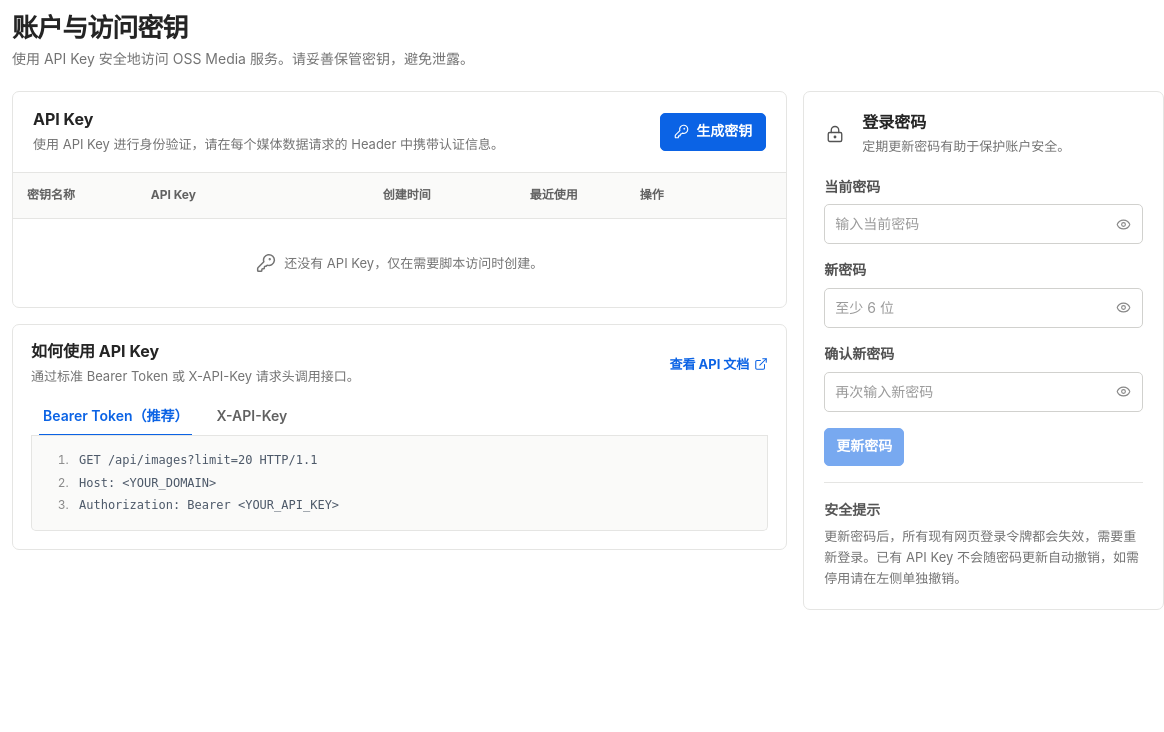
Test: AccountView › keeps failed password changes signed in and exposes accessible visibility controls
Click the button named "显示当前密码" at (1123,224), box top-left (1104, 205), bottom-right (1142, 243)
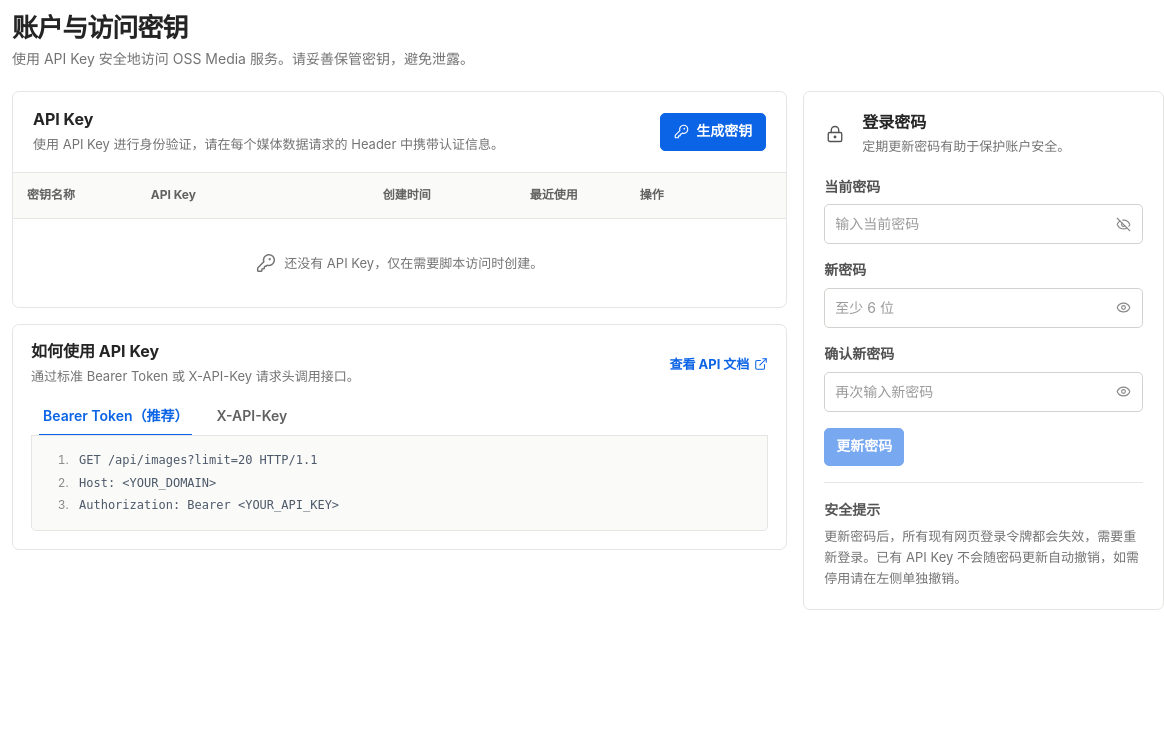
Check: the button named "隐藏当前密码" is pressed, box top-left (1104, 205), bottom-right (1142, 243)
Type "wrong-password" into the field labelled "当前密码" at (965,224), box top-left (825, 205), bottom-right (1104, 243)
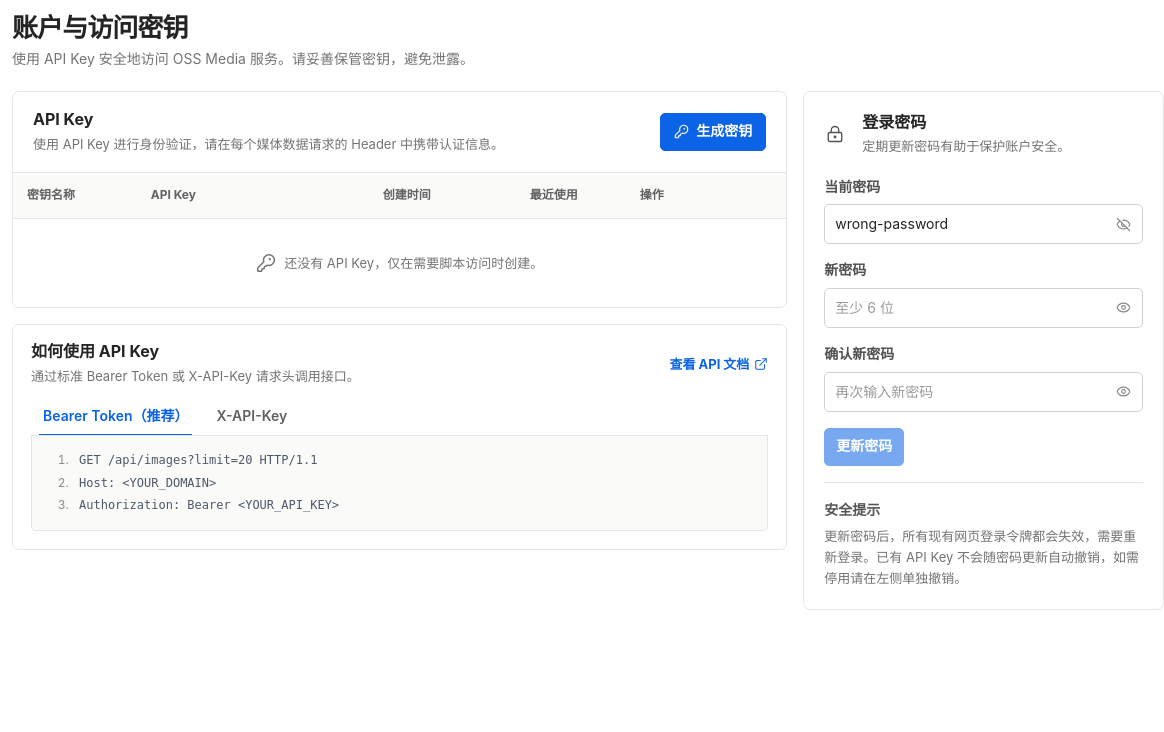
Type "new-password" into the password field labelled "新密码" at (965,308), box top-left (825, 289), bottom-right (1104, 327)
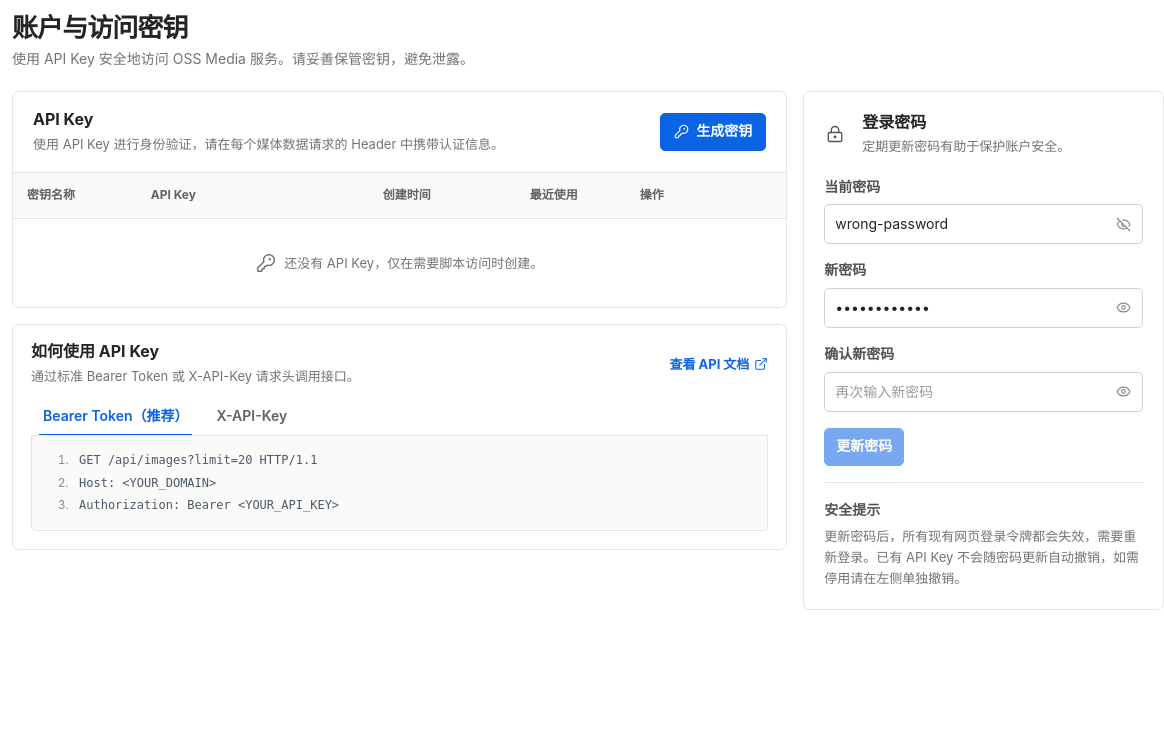
Type "new-password" into the password field labelled "确认新密码" at (965,392), box top-left (825, 373), bottom-right (1104, 411)
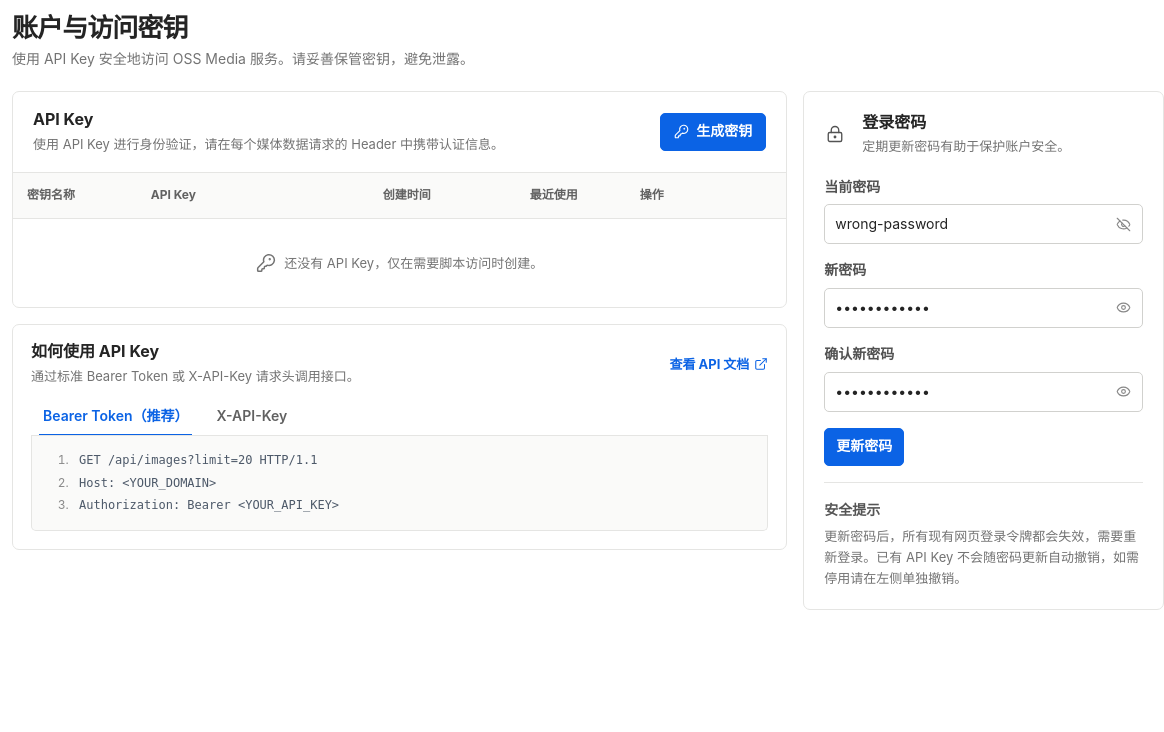
Submit the form with class "security-form", box top-left (824, 176), bottom-right (1143, 466)
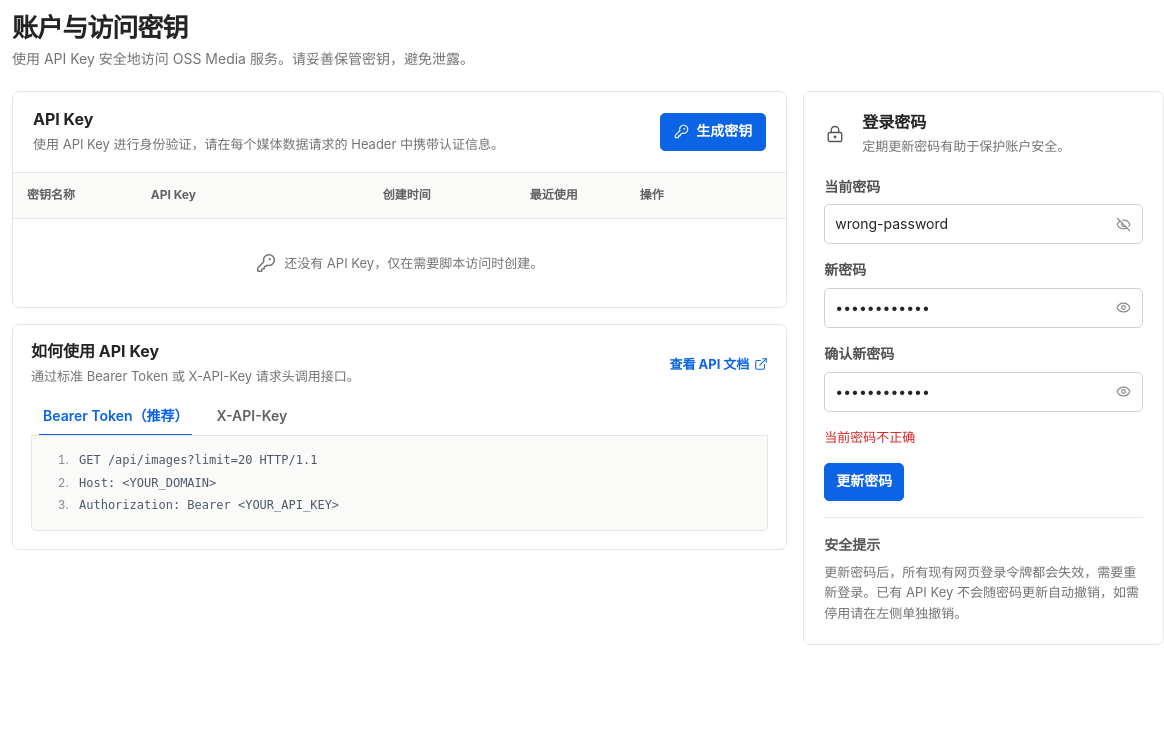
Check: the message "当前密码不正确" is shown, box top-left (824, 429), bottom-right (915, 445)
